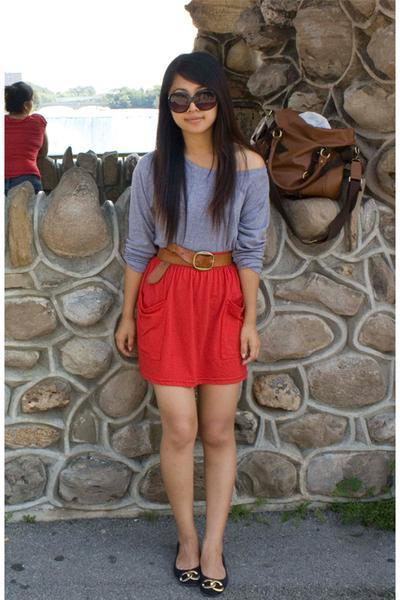shirt: (122, 150, 269, 273)
shoe: (180, 564, 220, 596)
skirt: (136, 264, 249, 388)
sunglass: (159, 84, 216, 117)
